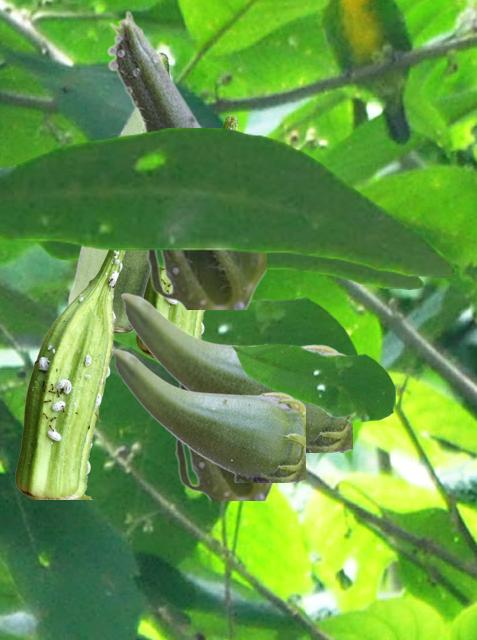okra: (106, 10, 265, 308), (120, 292, 351, 451), (68, 52, 172, 331), (15, 251, 125, 498), (111, 348, 304, 481), (136, 115, 237, 356), (173, 384, 275, 499)
